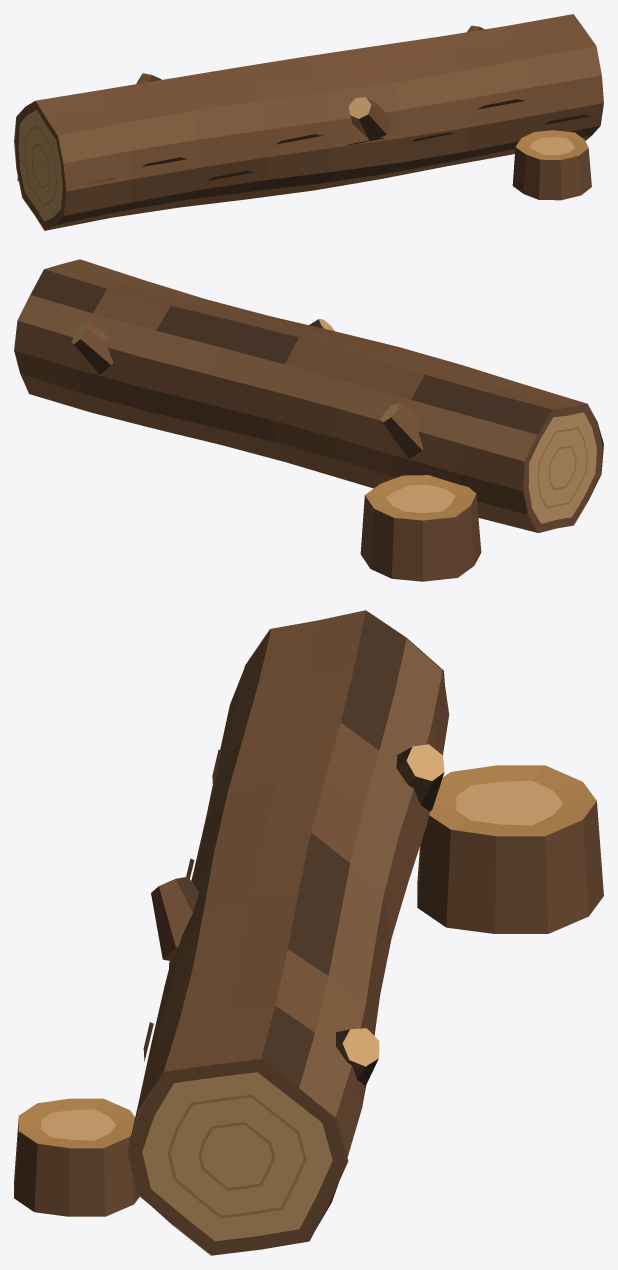
The model's file is log_two_lane_B.glb.
3 views of the same model, one above another, from view 1: azimuth 30°, elevation 25°; view 2: azimuth 150°, elevation 25°; view 3: azimuth 270°, elevation 25° (orthographic). The views are drawn at different scales.
Parts seen in each view (by area): view 1: log_two_lane_B; view 2: log_two_lane_B; view 3: log_two_lane_B.
Boxes of the visible parts, x1=… form: log_two_lane_B: x1=14, y1=14, x2=603, y2=230; log_two_lane_B: x1=14, y1=259, x2=603, y2=581; log_two_lane_B: x1=14, y1=610, x2=603, y2=1255.
Size of the model in its own units: 4.89 by 1.19 by 2.81.
